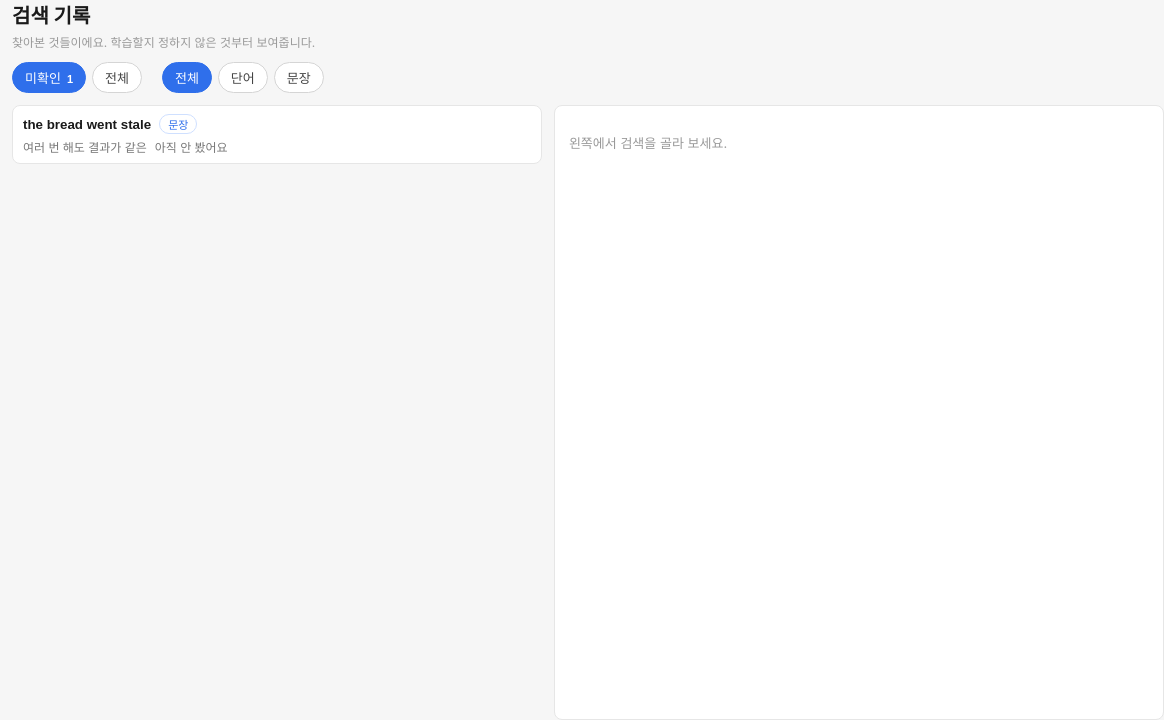
Test: 검색 기록 › 문장은 단어를 고르는 화면으로 간다
What coordinates should you click on to do the following:
click the text "the bread went stale"
I would click on:
 (87, 124)
Its box is [23, 117, 151, 132].
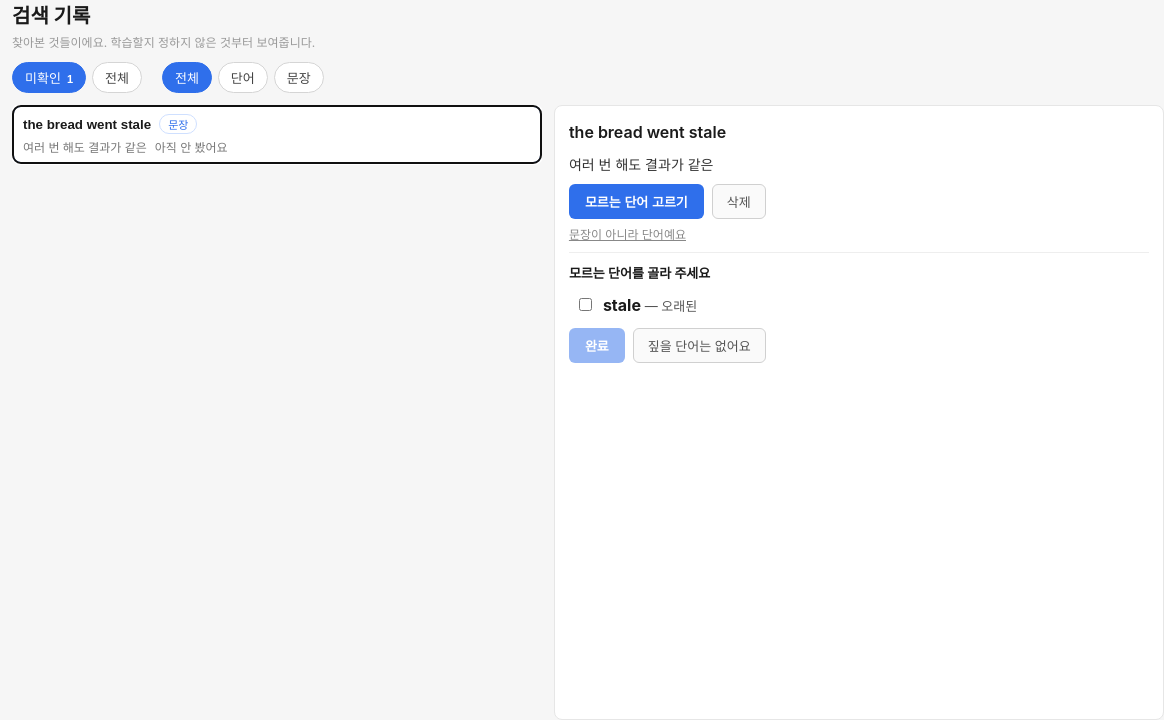
Check: the text "모르는 단어를 골라 주세요" is shown, box [569, 265, 710, 281]
Check: the text "stale" is shown, box [603, 295, 641, 315]
